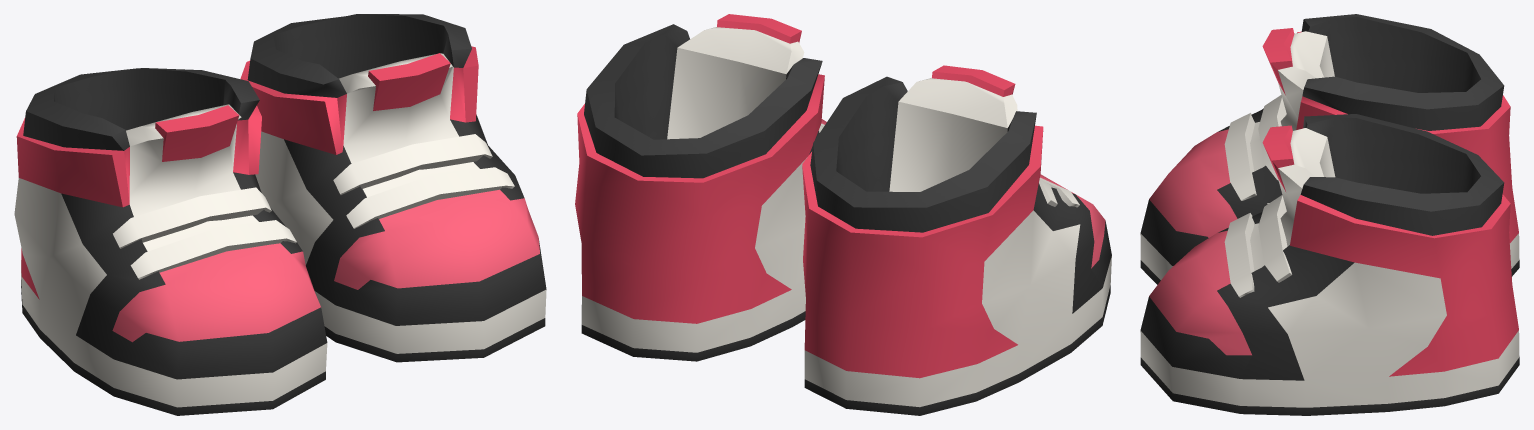
Rendered from Shoes_6.fbx.
3 renders of one model, left to right at view 1: azimuth 30°, elevation 25°; view 2: azimuth 150°, elevation 25°; view 3: azimuth 270°, elevation 25°, orthographic. The views are drawn at different scales.
Parts seen in each view (by area): view 1: Shoes_6; view 2: Shoes_6; view 3: Shoes_6.
Part boxes in pixels (<box>): Shoes_6: <box>14,14,546,415</box>; Shoes_6: <box>575,14,1111,415</box>; Shoes_6: <box>1140,14,1519,415</box>.
Bounding box in the file's own units: 41.39 × 21.85 × 33.37.
